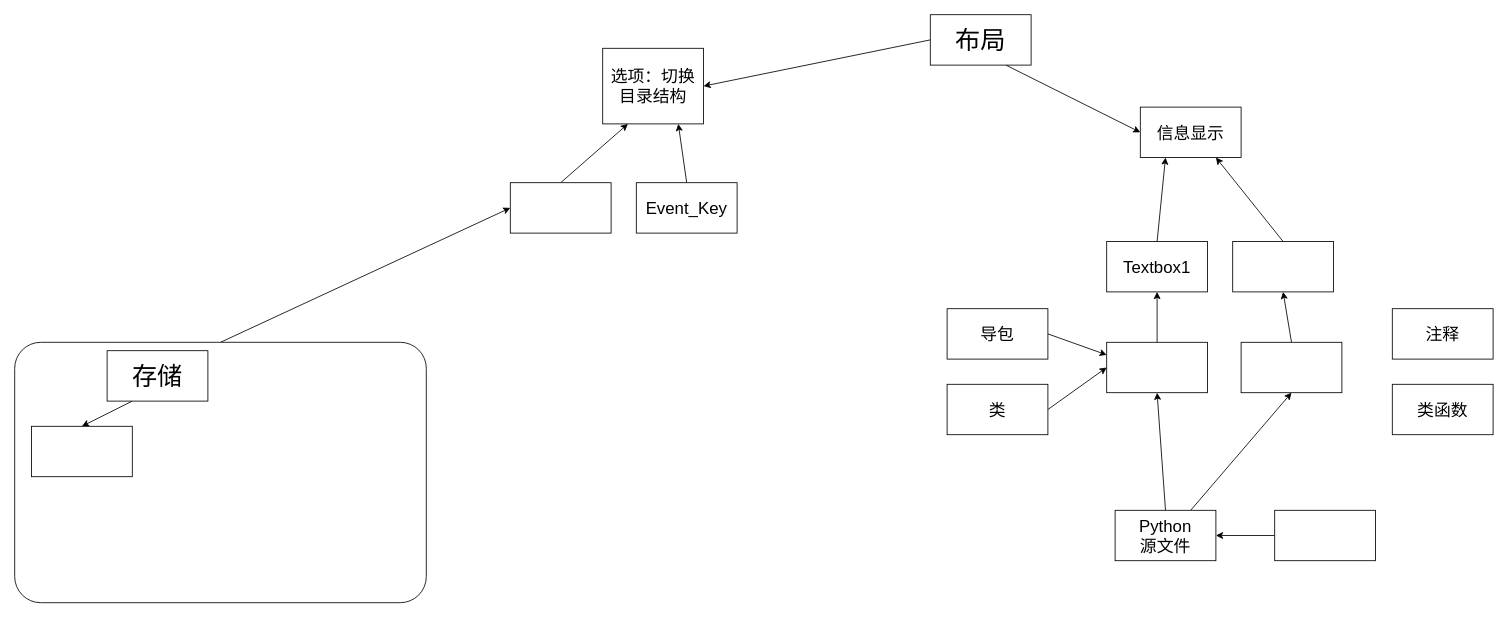
Image size: 1508x617. Some labels were removed from this diagram. The shapes that lost their labels are listed below. From the top down, each one's box as (x1, y1, x2, y2) in pixels, then its label:
(509, 182, 611, 233): Radio
(1232, 241, 1334, 292): Textbox2
(1106, 341, 1208, 393): 实现
(1240, 341, 1342, 393): 调用
(31, 425, 132, 477): 类型 （文件夹）
(1274, 509, 1376, 561): 结构配置
